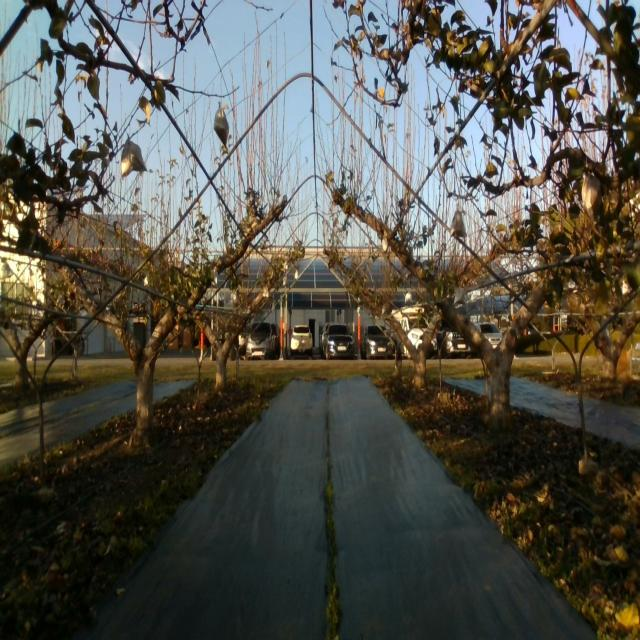pearbags: (120, 140, 146, 179), (582, 175, 600, 223), (214, 108, 228, 148), (450, 210, 467, 240), (454, 286, 466, 306)
